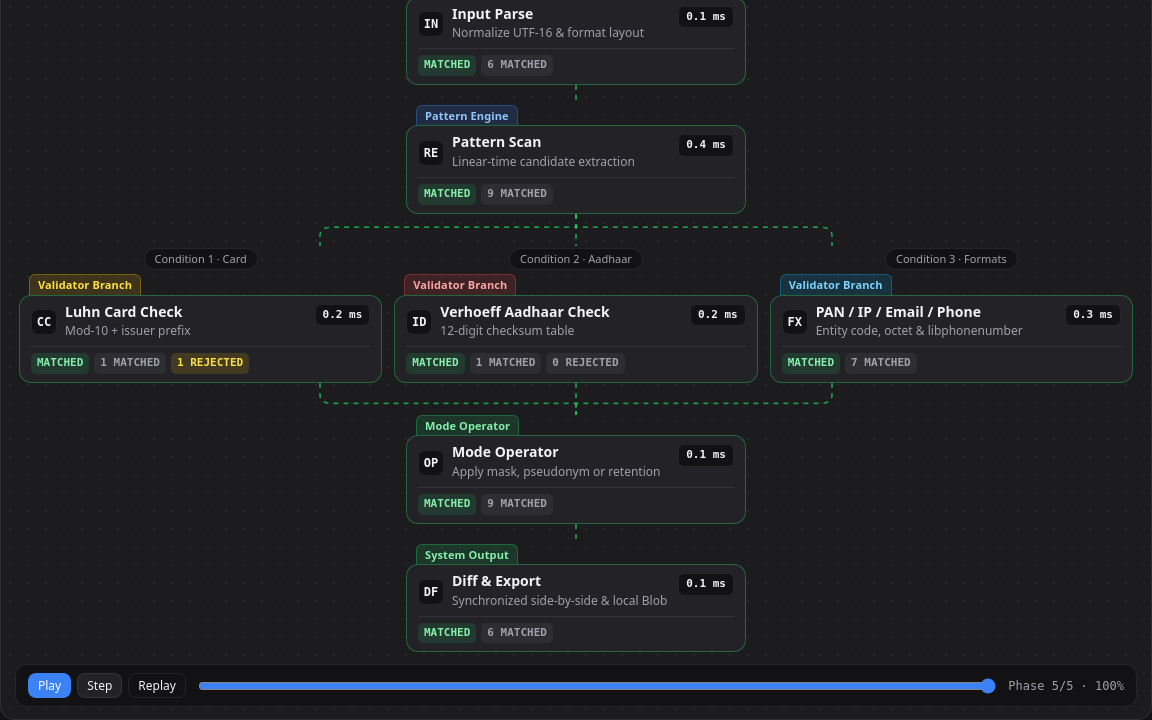
Test case: PII Sanitizer Workbench UI Integration › drives PipelineFlow step/replay/scrubber controls and respects prefers-reduced-motion
(page scrolled)
Check: the text "Input Parse" is shown, box [452,4,533,22]
Check: the text "Luhn Card Check" is shown, box [65,304,190,320]
Set the slider named "timeline scrubber" to "0": (206, 686) [198,678,996,694]
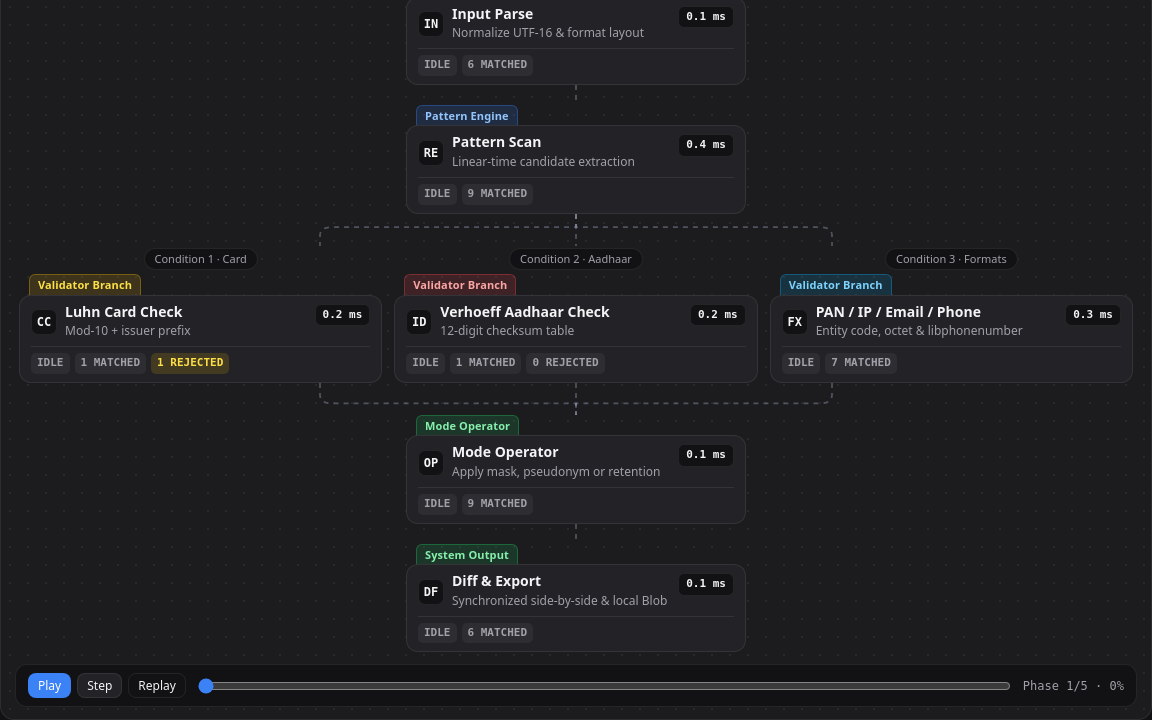
Check: the text "Phase 1/5 · 0%" is shown, box [1023,677,1124,695]
Click the button "Step": (100, 686) [77,674,122,698]
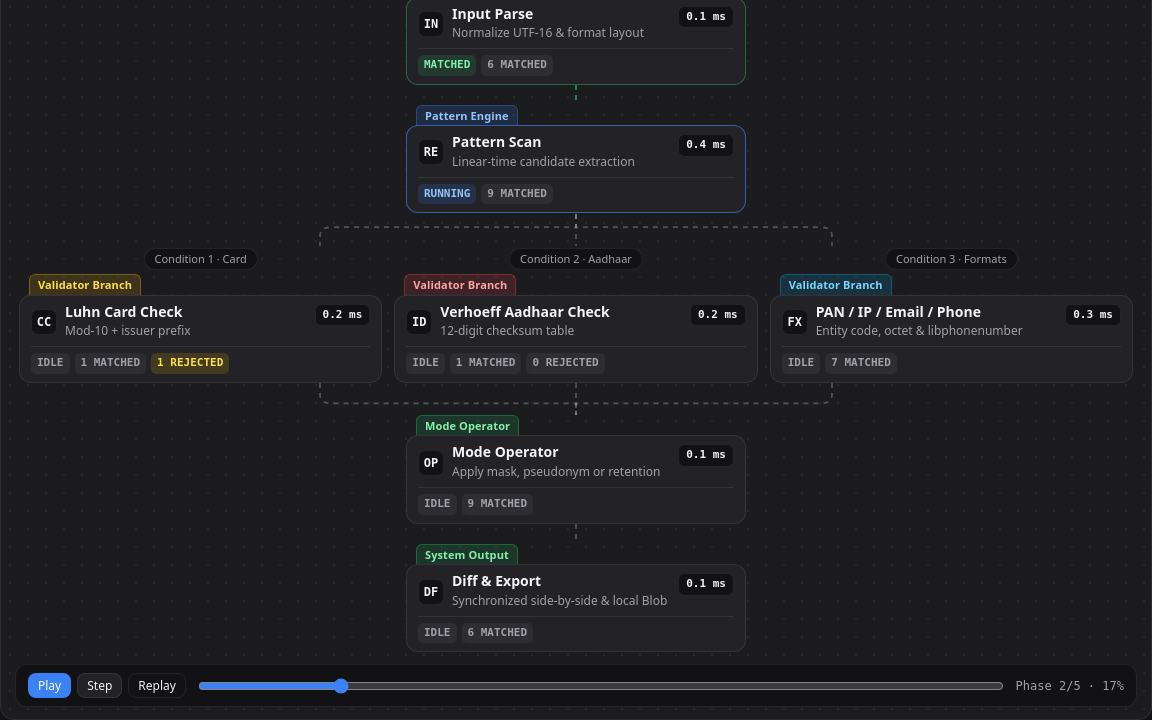
Check: the text "Phase 2/5 · 17%" is shown, box [1016,677,1124,695]
Click the button "Replay": (157, 686) [128,674,186,698]
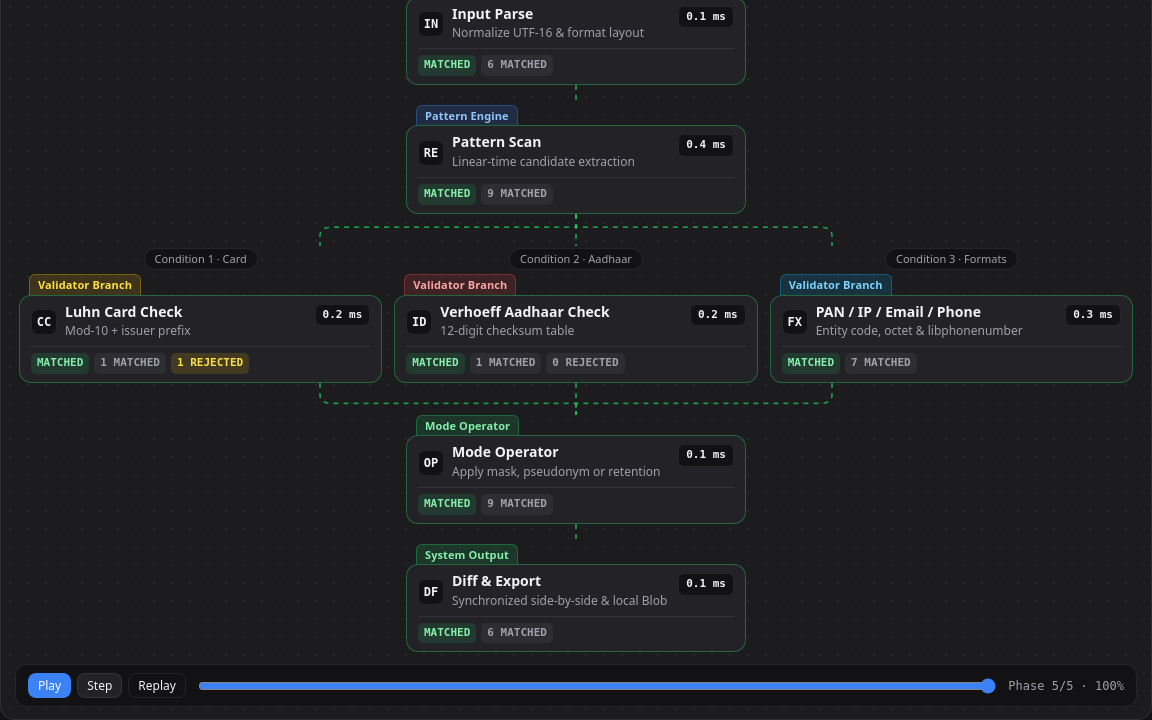
Check: the text "Phase 5/5 · 100%" is shown, box [1008,677,1124,695]
